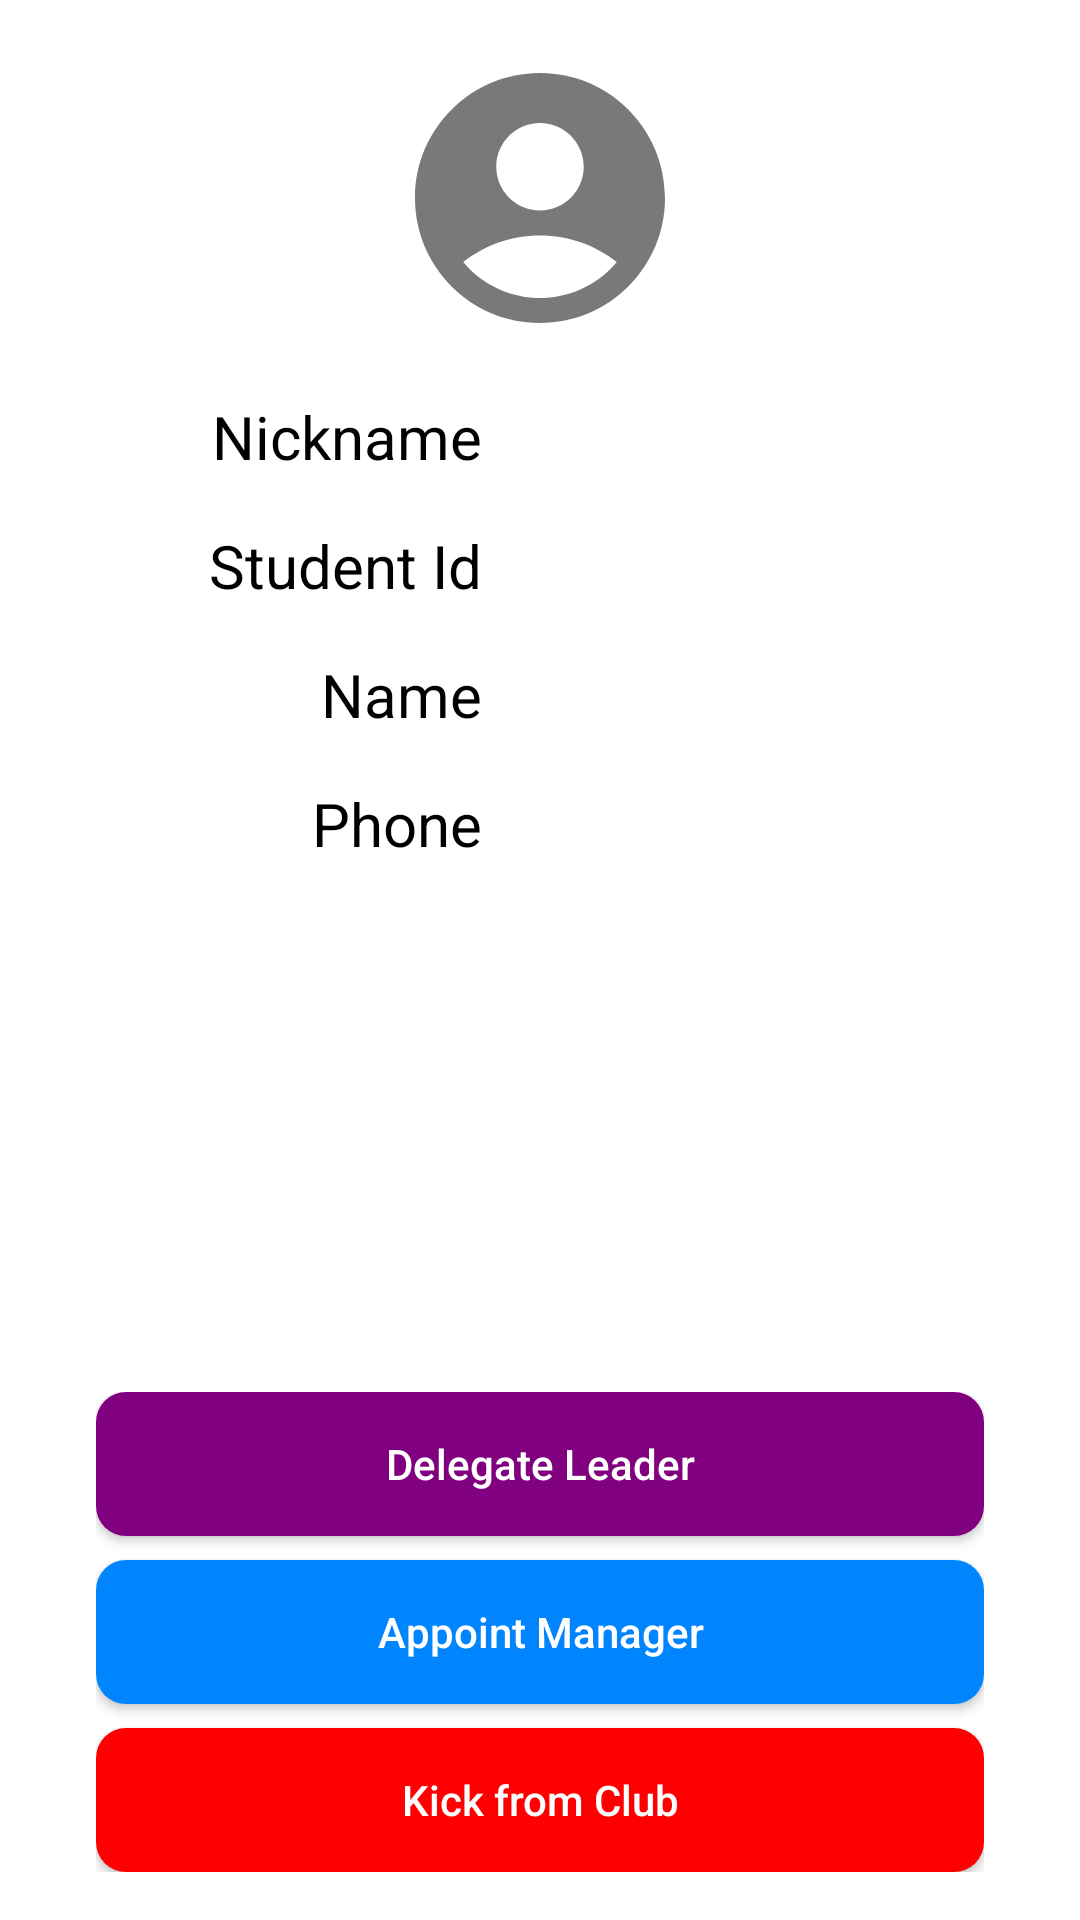

Named icons in this screenshot (1080px×1920px) and their bounding boxes, (x1, y1, x2, y2):
account circle: (415, 73, 665, 323)
